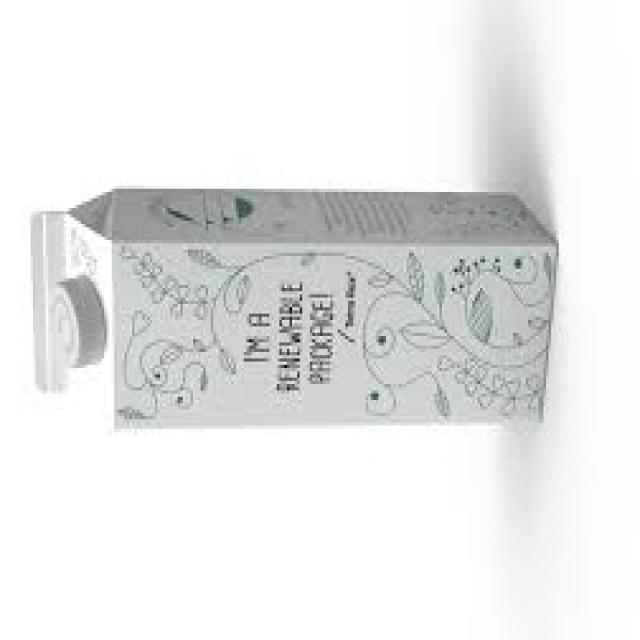non_white_jug: (24, 181, 562, 440)
